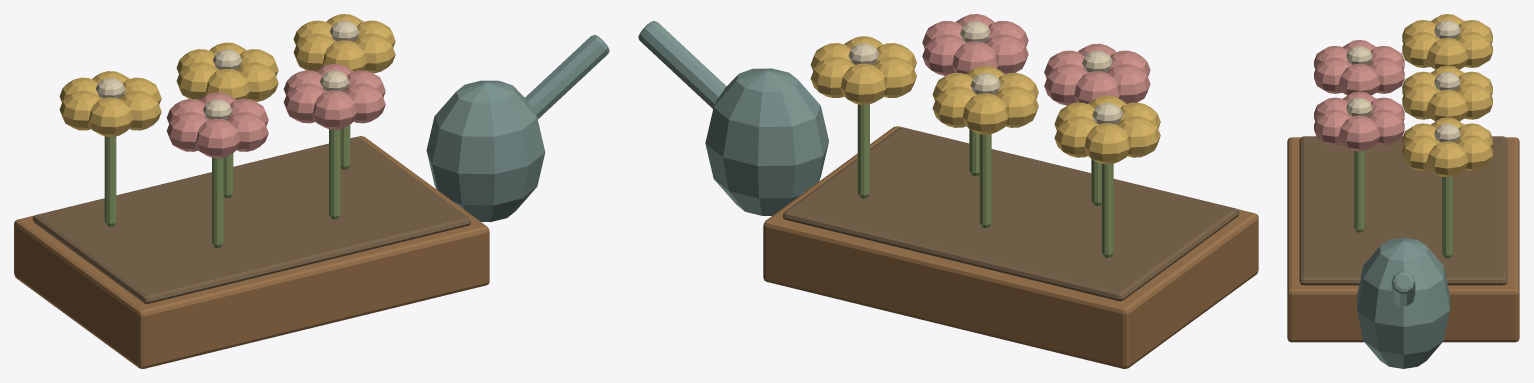
The model's file is flower-patch.glb.
3 views of the same model, side by side, from view 1: azimuth 30°, elevation 25°; view 2: azimuth 150°, elevation 25°; view 3: azimuth 270°, elevation 25° (orthographic). The views are drawn at different scales.
Visible parts, largest first — view 1: flower-patch_Discovery_Mesh, discovery_Bloom0_Mesh, discovery_Bloom3_Mesh, discovery_Bloom1_Mesh, discovery_Bloom4_Mesh, discovery_Bloom2_Mesh; view 2: flower-patch_Discovery_Mesh, discovery_Bloom0_Mesh, discovery_Bloom4_Mesh, discovery_Bloom2_Mesh, discovery_Bloom1_Mesh, discovery_Bloom3_Mesh; view 3: flower-patch_Discovery_Mesh, discovery_Bloom4_Mesh, discovery_Bloom3_Mesh, discovery_Bloom0_Mesh, discovery_Bloom1_Mesh, discovery_Bloom2_Mesh.
Boxes of the visible parts, <box> form: flower-patch_Discovery_Mesh: <box>14,34,609,368</box>; discovery_Bloom0_Mesh: <box>59,71,161,226</box>; discovery_Bloom3_Mesh: <box>283,64,385,219</box>; discovery_Bloom1_Mesh: <box>166,92,268,247</box>; discovery_Bloom4_Mesh: <box>293,14,395,169</box>; discovery_Bloom2_Mesh: <box>176,42,278,198</box>; flower-patch_Discovery_Mesh: <box>638,20,1258,368</box>; discovery_Bloom0_Mesh: <box>1054,95,1160,257</box>; discovery_Bloom4_Mesh: <box>810,36,916,198</box>; discovery_Bloom2_Mesh: <box>932,66,1038,227</box>; discovery_Bloom1_Mesh: <box>1044,43,1150,205</box>; discovery_Bloom3_Mesh: <box>922,14,1028,176</box>; flower-patch_Discovery_Mesh: <box>1287,136,1519,368</box>; discovery_Bloom4_Mesh: <box>1402,117,1492,258</box>; discovery_Bloom3_Mesh: <box>1314,91,1404,232</box>; discovery_Bloom0_Mesh: <box>1402,14,1492,69</box>; discovery_Bloom1_Mesh: <box>1314,40,1404,95</box>; discovery_Bloom2_Mesh: <box>1402,65,1492,121</box>.
Size of the model in its own units: 2.27 by 0.87 by 0.95.
